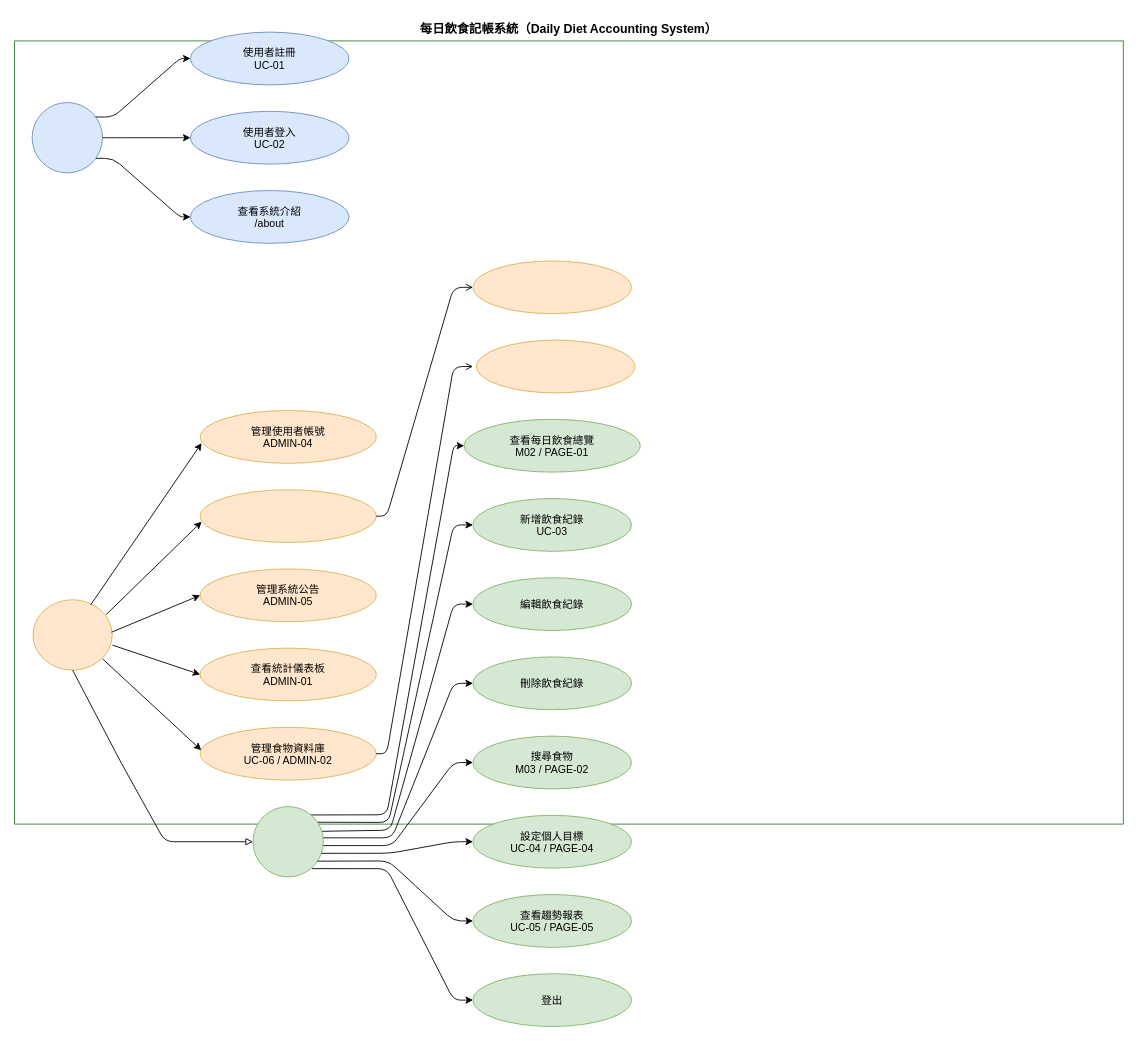
This 1138x1041 diagram has some shape labels left out. Here are the shapes that lost their labels. From the top down, the centre of each, then its label:
At point 67,137: "訪客 （Guest）".
At point 551,287: "匯出 CSV / JSON".
At point 555,366: "CSV 批次匯入食物".
At point 287,516: "管理飲食紀錄 ADMIN-03".
At point 72,634: "管理員 （Admin）".
At point 287,841: "一般使用者 （User）".
